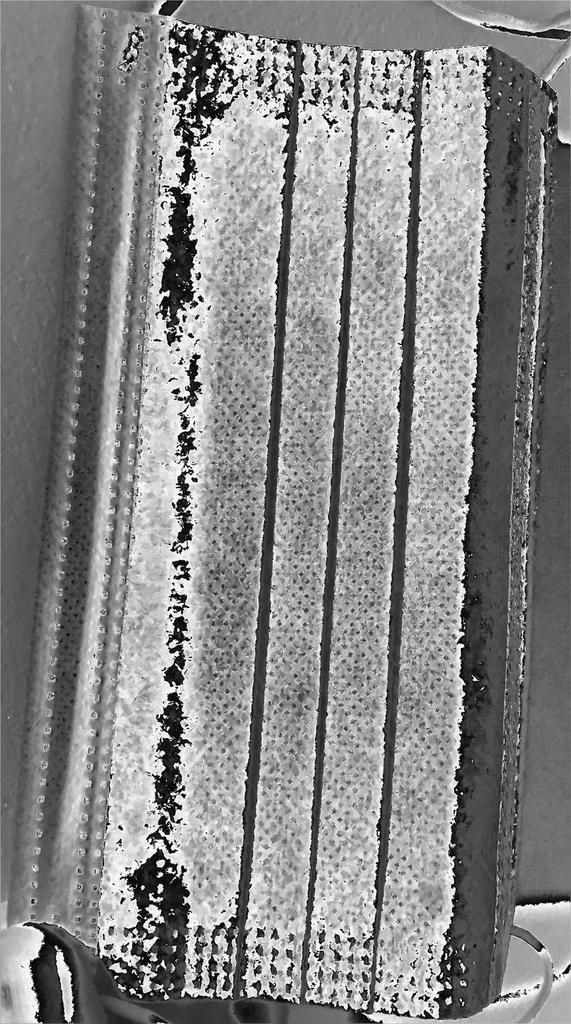High GSM: (93, 14, 556, 1024)
